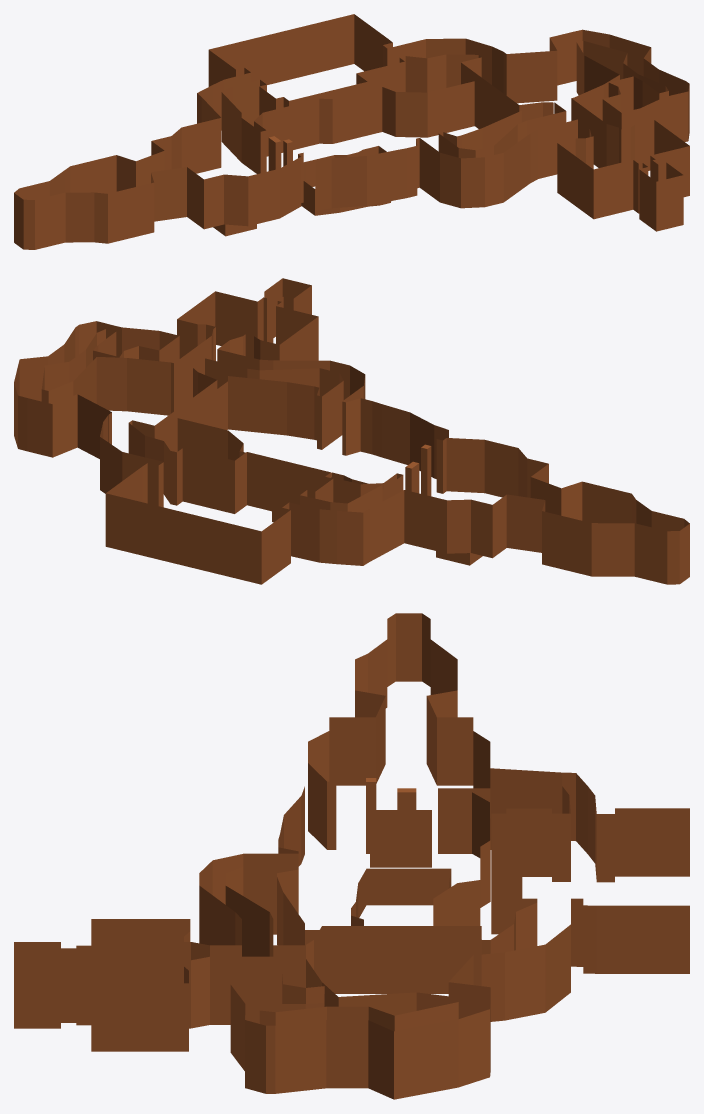
File: e1m1_walls.obj
3 views of the same model, one above another, from view 1: azimuth 30°, elevation 25°; view 2: azimuth 150°, elevation 25°; view 3: azimuth 270°, elevation 25° (orthographic). The views are drawn at different scales.
Parts seen in each view (by area): view 1: Plane.001; view 2: Plane.001; view 3: Plane.001.
Part boxes in pixels (x1=…): Plane.001: x1=14, y1=14, x2=689, y2=249; Plane.001: x1=14, y1=278, x2=689, y2=584; Plane.001: x1=14, y1=613, x2=689, y2=1099.
Bounding box in the file's own units: 84.49 × 10.23 × 57.72.
